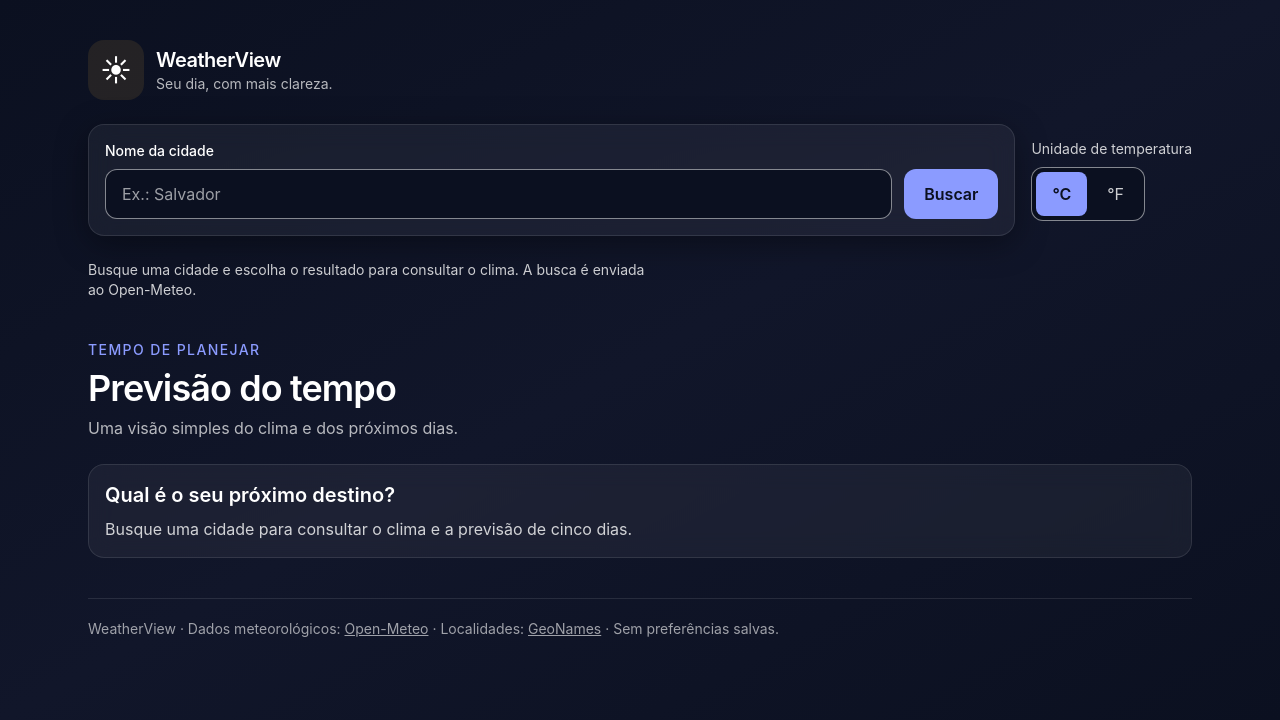
Test: App integrado › forecast com erro não apaga resultados; retry consulta só o alvo selecionado
The image size is (1280, 720).
Type "Salvador" into the field.
click(499, 194); type("Salvador")  # box [105,169,892,219]
Then press Enter
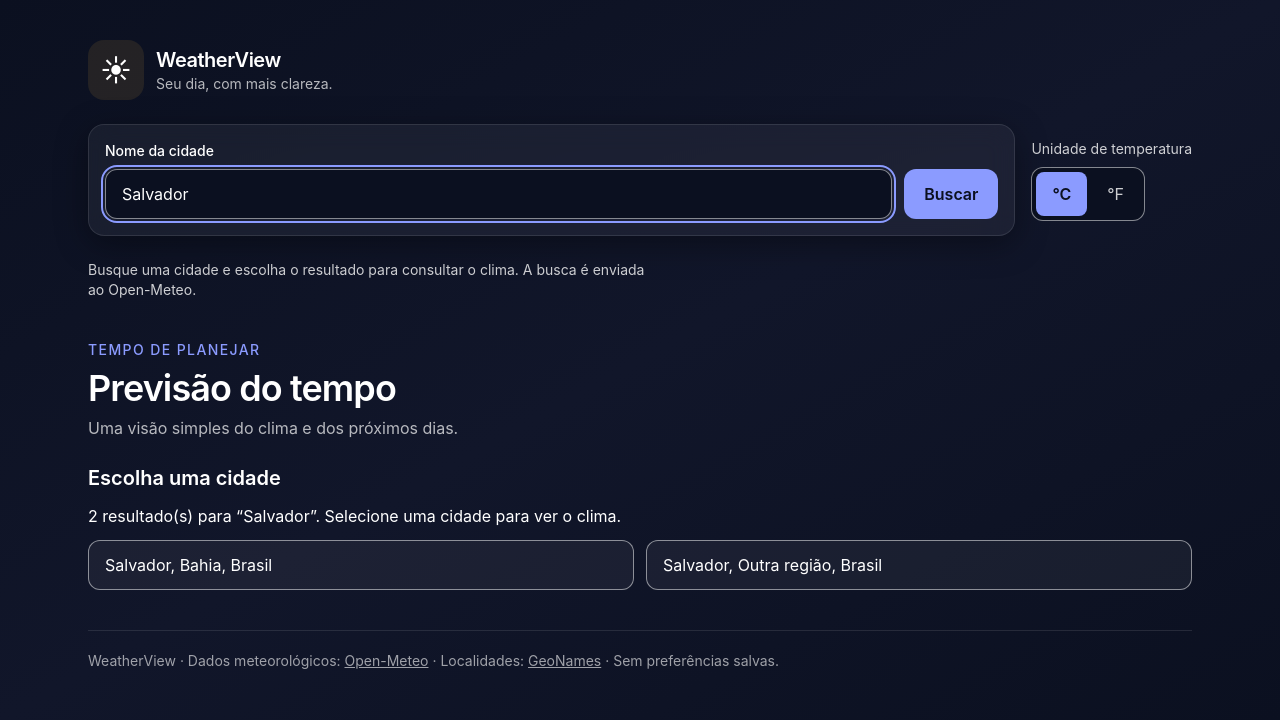
Click the button "Salvador, Outra região, Brasil".
click(773, 565)  # box [646,540,1192,590]
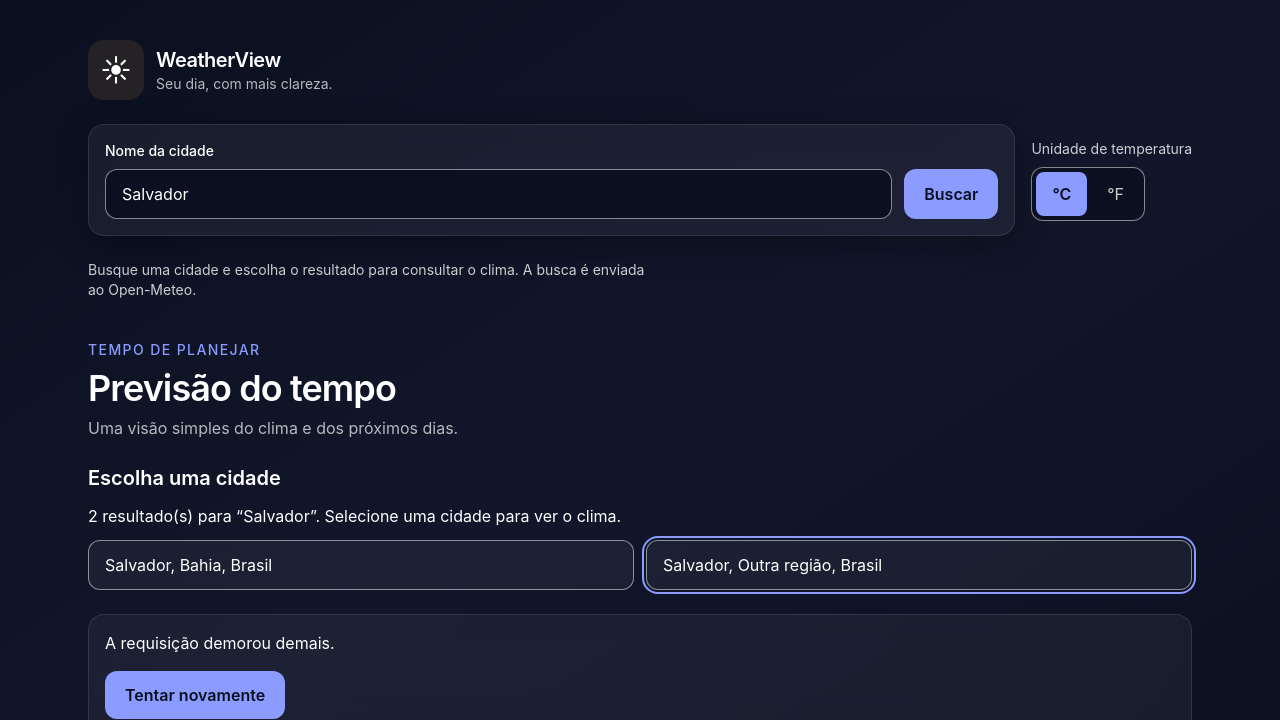
Now the button "Salvador, Bahia, Brasil" is shown, box [88,540,634,590]
Now the message "A requisição demorou demais." is shown, box [105,633,335,653]
Click the button "Tentar novamente".
click(195, 695)  # box [105,671,285,719]
(page scrolled)
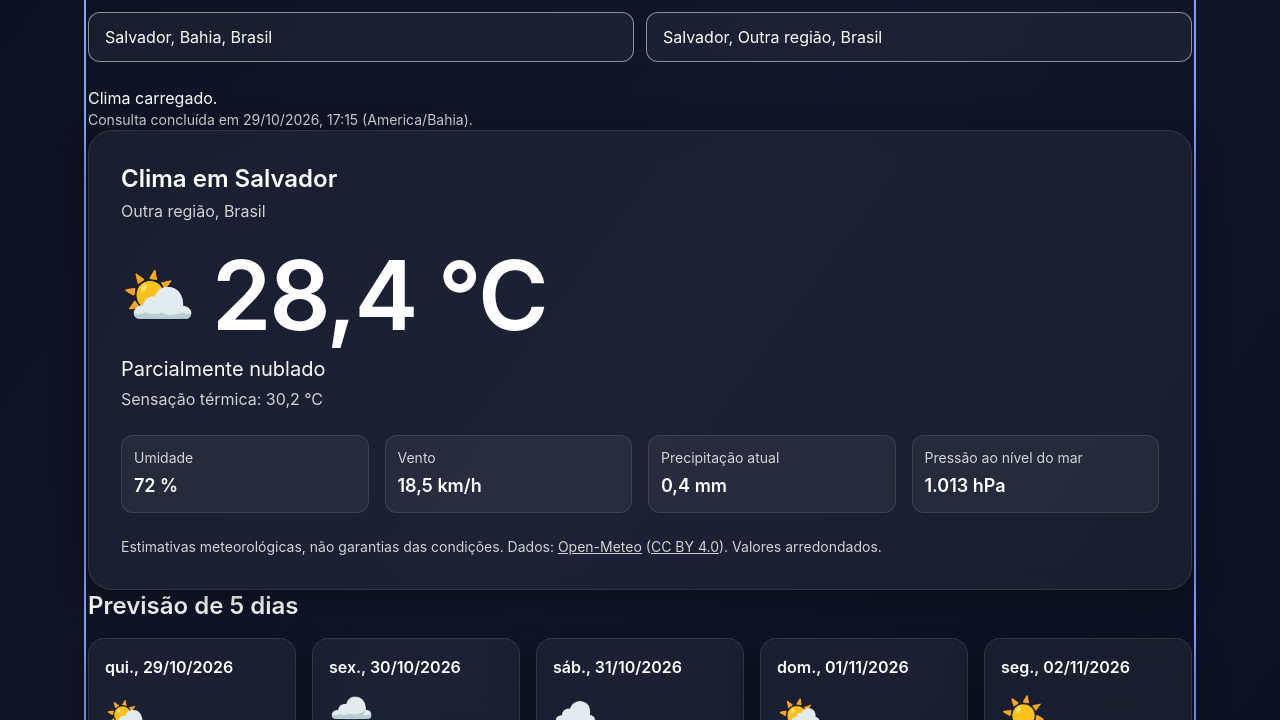
Now the element "Clima em Salvador" shows "Outra região", box [121,201,266,221]
